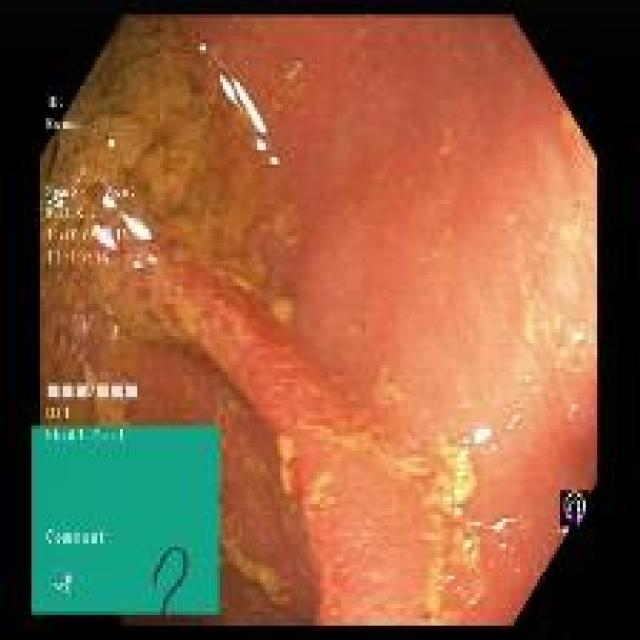ulcerative-colitis: (40, 19, 598, 623)
